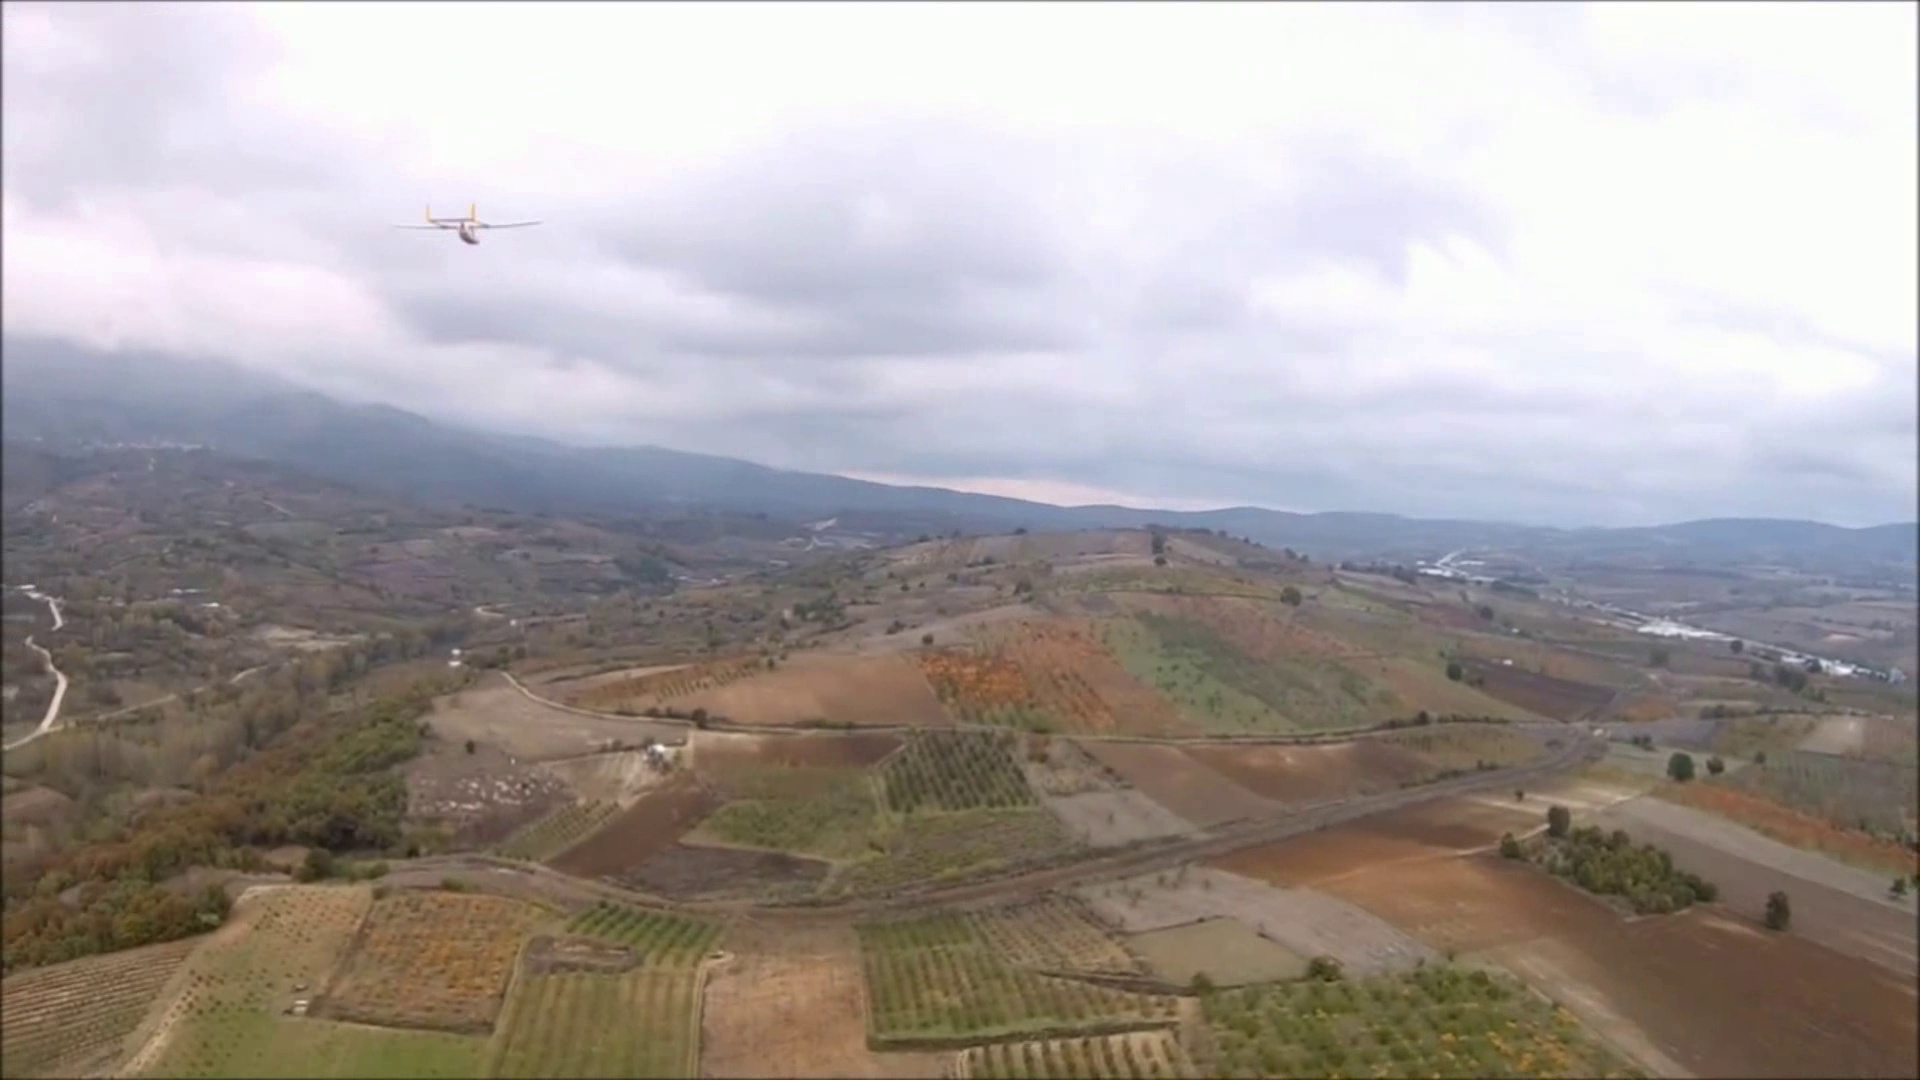airplane: (423, 203, 522, 243), (423, 202, 496, 247), (422, 203, 479, 243)
